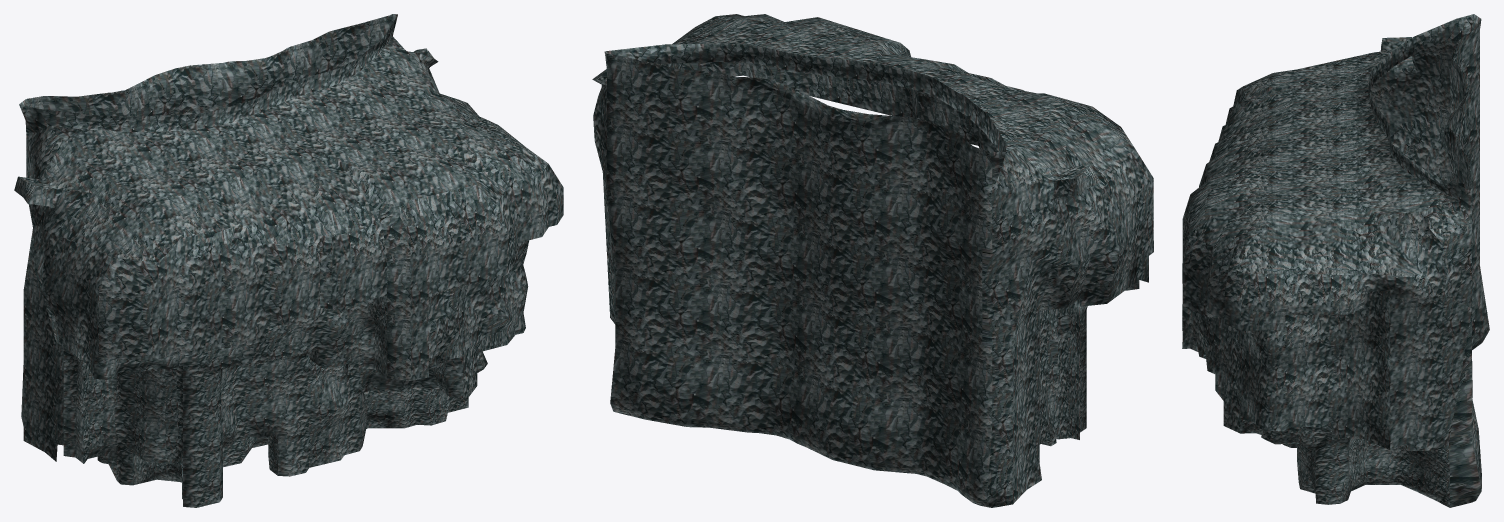
The model's file is CH09_SMAUG_PLAYSURFACE_CAVE13.fbx.
The picture shows the model from 3 angles, left to right: view 1: azimuth 30°, elevation 25°; view 2: azimuth 150°, elevation 25°; view 3: azimuth 270°, elevation 25°; orthographic projection. The views are drawn at different scales.
Visible parts, largest first — view 1: CH09_SMAUG_PLAYSURFACE_CAVE13; view 2: CH09_SMAUG_PLAYSURFACE_CAVE13; view 3: CH09_SMAUG_PLAYSURFACE_CAVE13.
Part boxes in pixels (left/top/right/bottom): CH09_SMAUG_PLAYSURFACE_CAVE13: left=14, top=14, right=563, bottom=507; CH09_SMAUG_PLAYSURFACE_CAVE13: left=592, top=14, right=1153, bottom=507; CH09_SMAUG_PLAYSURFACE_CAVE13: left=1182, top=14, right=1489, bottom=507.
Bounding box in the file's own units: 584685 × 403552 × 350513.
1 material, 1 textured.
